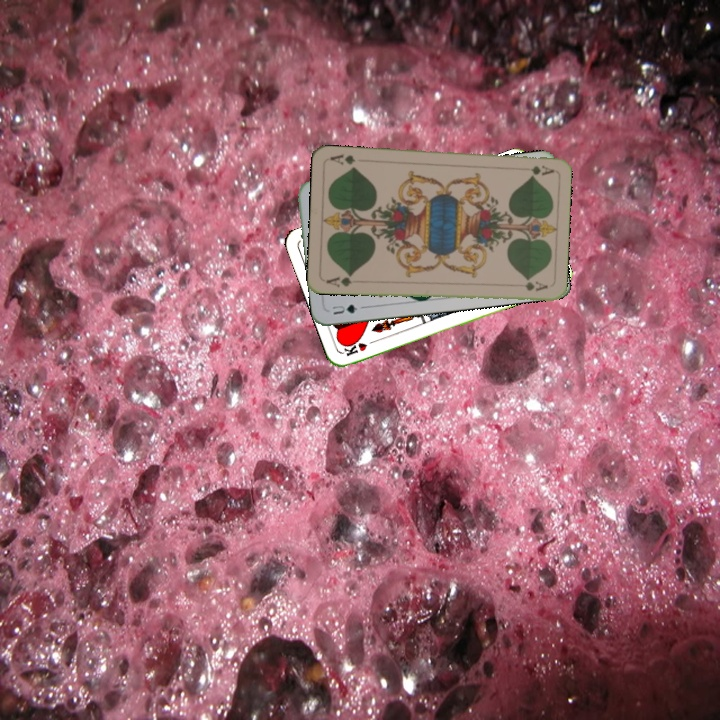GA: (322, 270, 355, 290), (515, 161, 555, 177)
GU: (328, 300, 366, 317)
HK: (340, 336, 380, 359)
